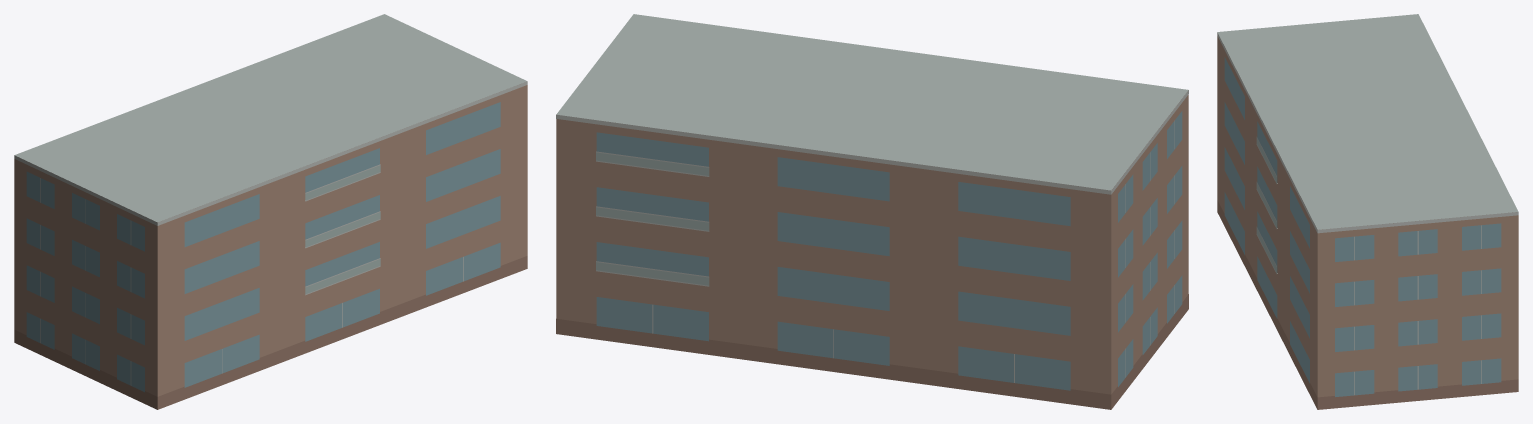
The model's file is survey-upis-32940693.glb.
The picture shows the model from 3 angles, left to right: view 1: azimuth 30°, elevation 25°; view 2: azimuth 150°, elevation 25°; view 3: azimuth 270°, elevation 25°; orthographic projection. The views are drawn at different scales.
Parts seen in each view (by area): view 1: survey-upis-32940693.tmp; view 2: survey-upis-32940693.tmp; view 3: survey-upis-32940693.tmp.
Part boxes in pixels (bbox=[...]): survey-upis-32940693.tmp: bbox=[14, 14, 527, 409]; survey-upis-32940693.tmp: bbox=[556, 14, 1188, 409]; survey-upis-32940693.tmp: bbox=[1217, 14, 1518, 409].
Bounding box in the file's own units: 32.93 × 12.8 × 19.42.
